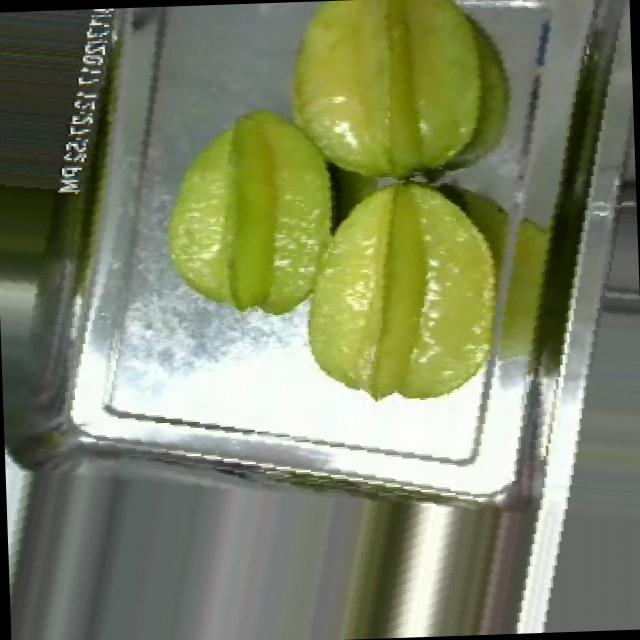fruit: (263, 152, 542, 428), (136, 80, 378, 342), (249, 0, 526, 212)
